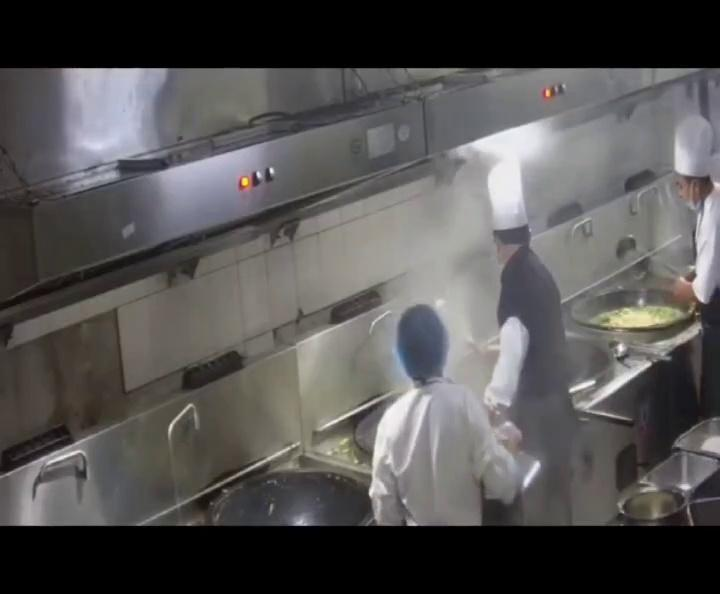mask: (678, 182, 705, 210)
